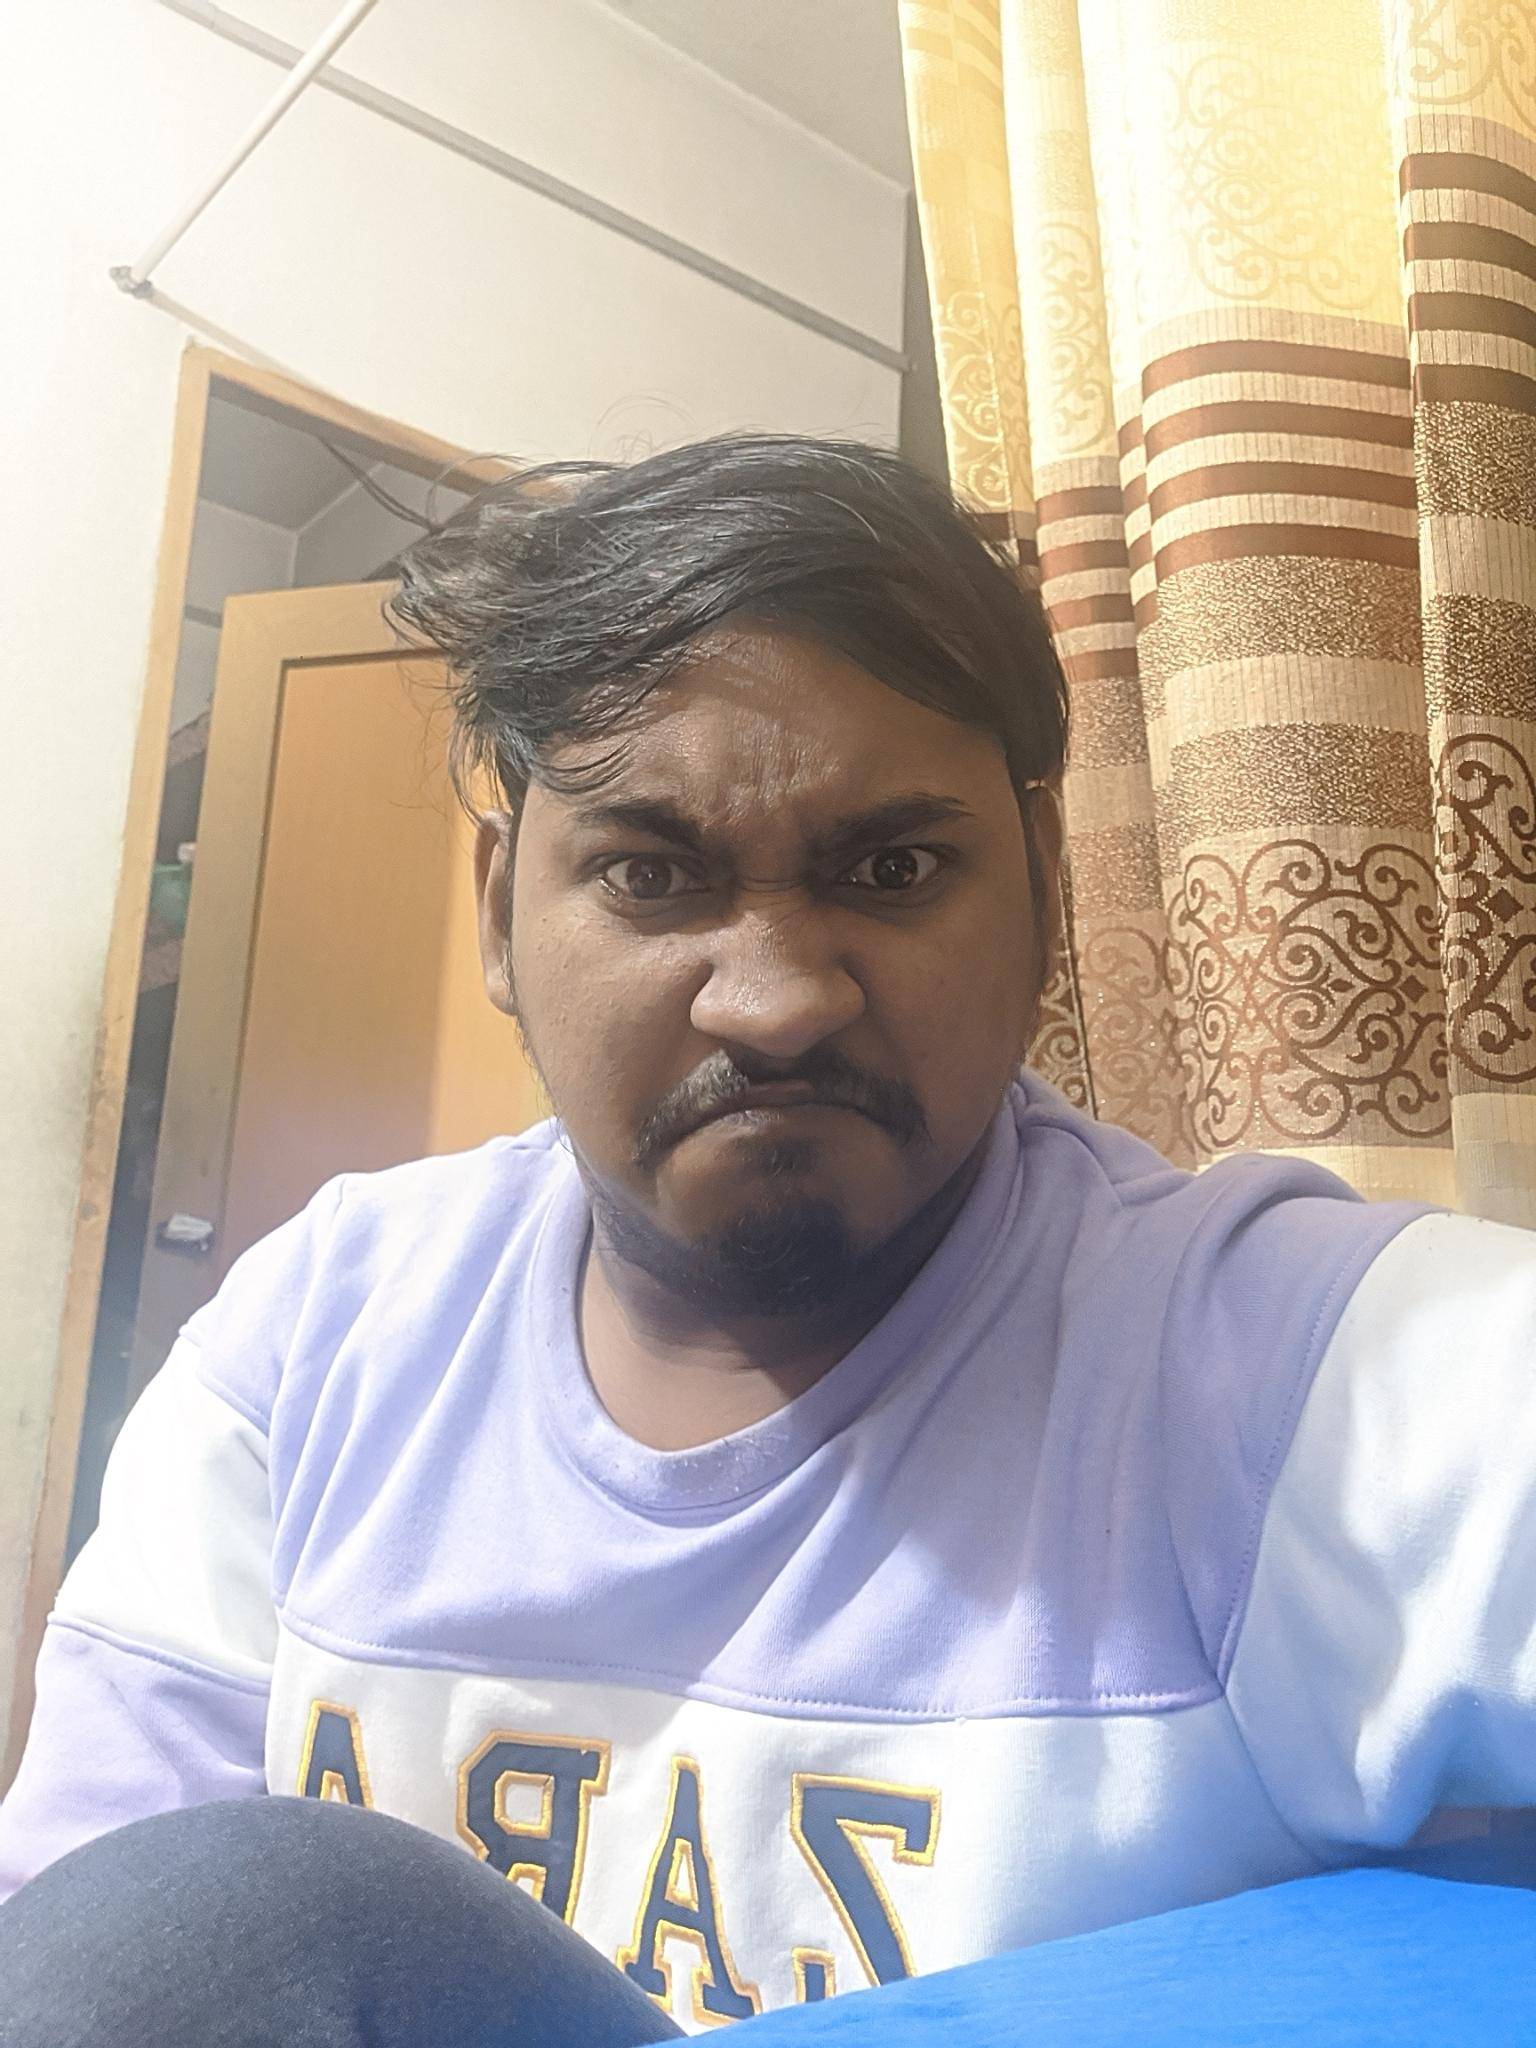Angry: (513, 663, 1042, 1272)
